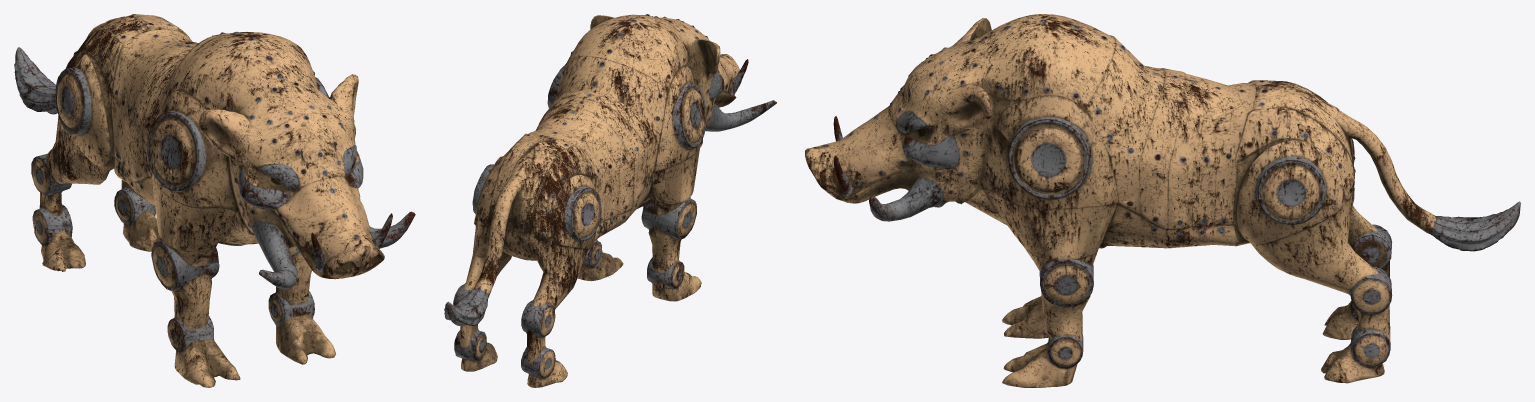
The model's file is MZ4250 - Clockwork Boar - Bronze Rusty.glb.
The picture shows the model from 3 angles, left to right: view 1: azimuth 30°, elevation 25°; view 2: azimuth 150°, elevation 25°; view 3: azimuth 270°, elevation 25°; orthographic projection. The views are drawn at different scales.
Parts seen in each view (by area): view 1: Clockwork Boar_low.002; view 2: Clockwork Boar_low.002; view 3: Clockwork Boar_low.002.
Boxes of the visible parts, x1,y1,x2,y2 form: Clockwork Boar_low.002: (14,14,415,387); Clockwork Boar_low.002: (444,14,776,387); Clockwork Boar_low.002: (805,14,1520,387).
Size of the model in its own units: 0.3961 by 0.7131 by 1.39.
1 material, 1 textured.
